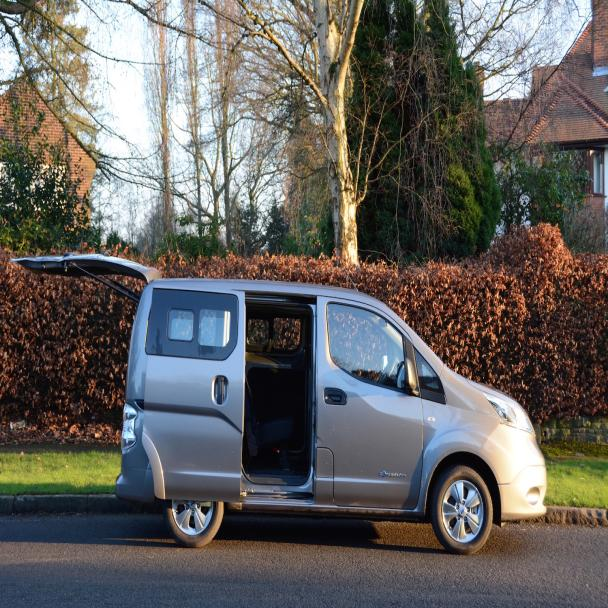Mobil: (119, 270, 548, 554)
